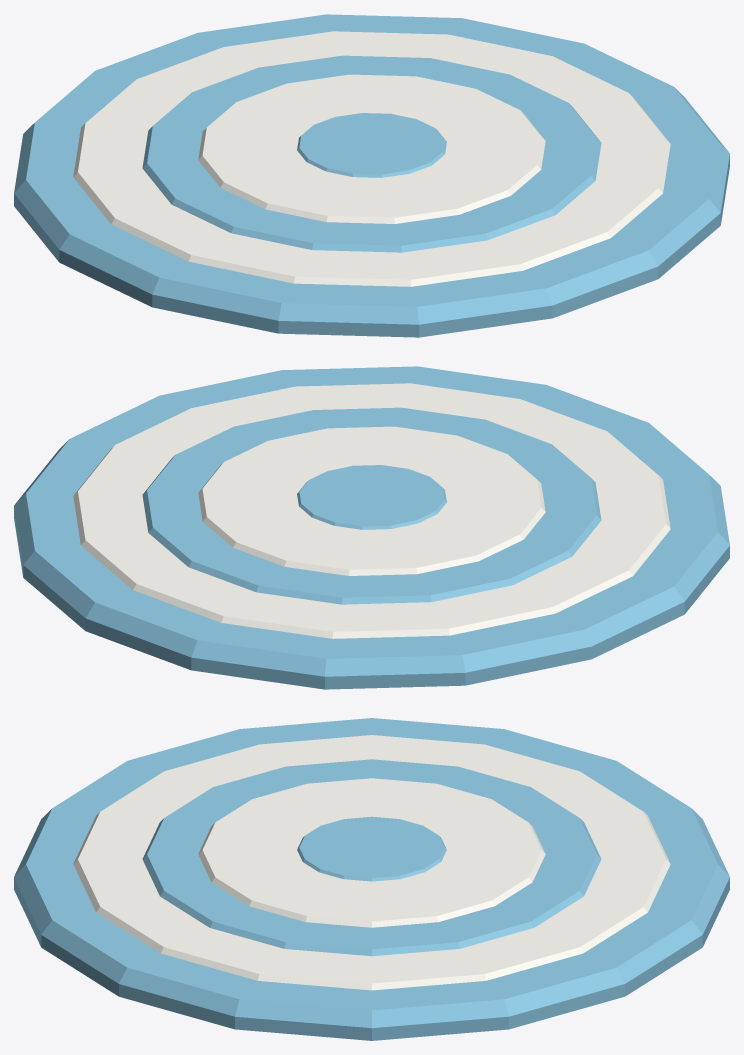
The model's file is Rug.fbx.
3 views of the same model, one above another, from view 1: azimuth 30°, elevation 25°; view 2: azimuth 150°, elevation 25°; view 3: azimuth 270°, elevation 25° (orthographic).
Parts seen in each view (by area): view 1: Rug; view 2: Rug; view 3: Rug.
Boxes of the visible parts, bbox=[...] form: Rug: bbox=[14, 14, 729, 337]; Rug: bbox=[14, 366, 729, 689]; Rug: bbox=[14, 718, 729, 1040].
Bounding box in the file's own units: 50.94 × 3.32 × 50.94.
